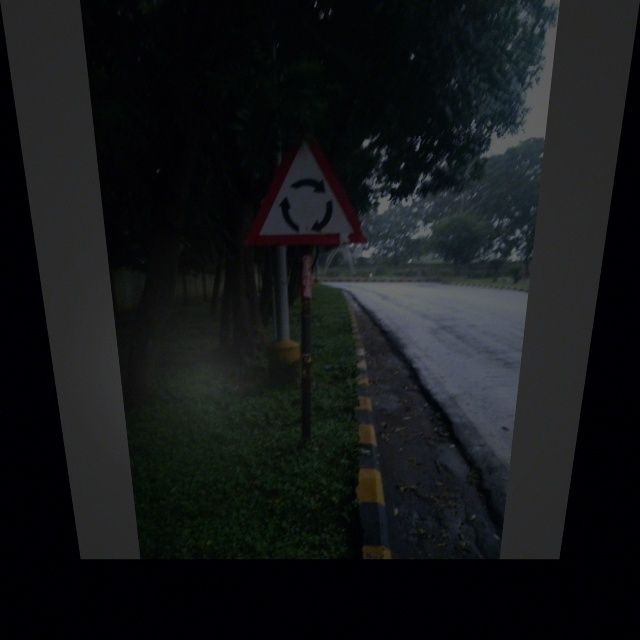Round_About: (234, 125, 372, 255)
